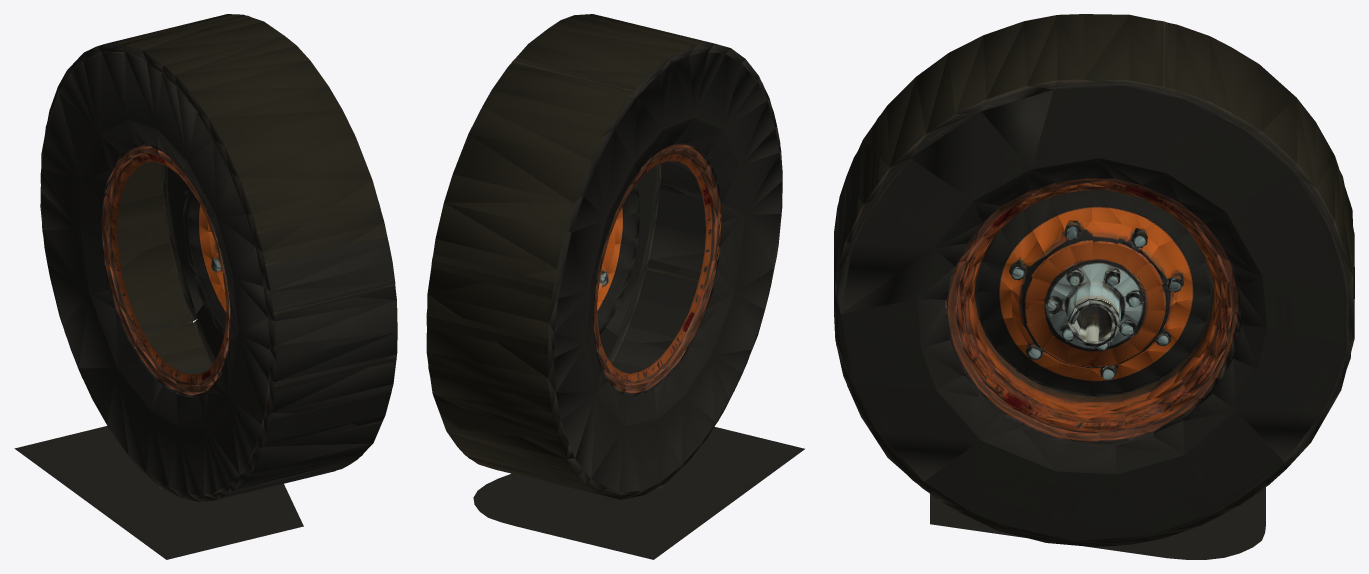
File: wheel_fat_slick.glb
The picture shows the model from 3 angles, left to right: view 1: azimuth 30°, elevation 25°; view 2: azimuth 150°, elevation 25°; view 3: azimuth 270°, elevation 25°; orthographic projection. The views are drawn at different scales.
Visible parts, largest first — view 1: tripo_node_3159e685; view 2: tripo_node_3159e685; view 3: tripo_node_3159e685.
Boxes of the visible parts, x1,y1,x2,y2 form: tripo_node_3159e685: [14, 14, 397, 559]; tripo_node_3159e685: [426, 14, 804, 559]; tripo_node_3159e685: [834, 14, 1354, 559].
Bounding box in the file's own units: 0.5007 × 0.998 × 0.9984.
1 material, 1 textured.
